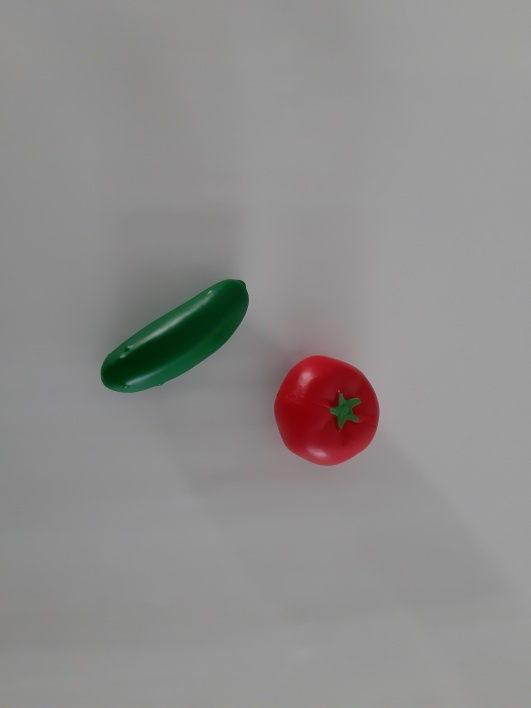cucumber: (79, 260, 254, 413)
tomato: (265, 344, 401, 489)
